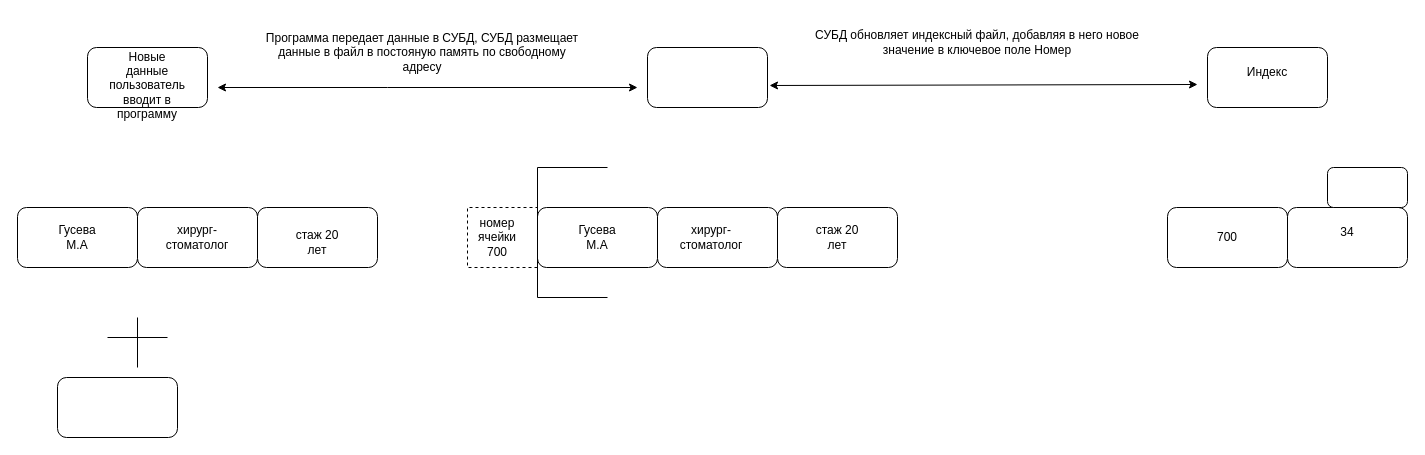
This 1425x455 diagram has some shape labels left out. The shapes that lost their labels are listed below. From the top down, each one's box as (x1, y1, x2, y2) in pixels, then its label:
(646, 46, 768, 108): Память
(1326, 166, 1408, 208): Ключ "номер"
(56, 376, 178, 438): ключевое поле "номер"
